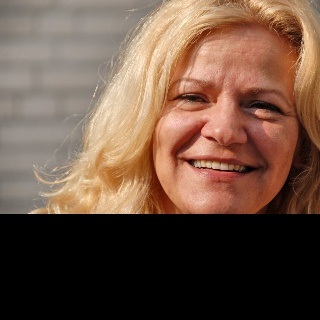without_mask: (151, 24, 303, 214)
